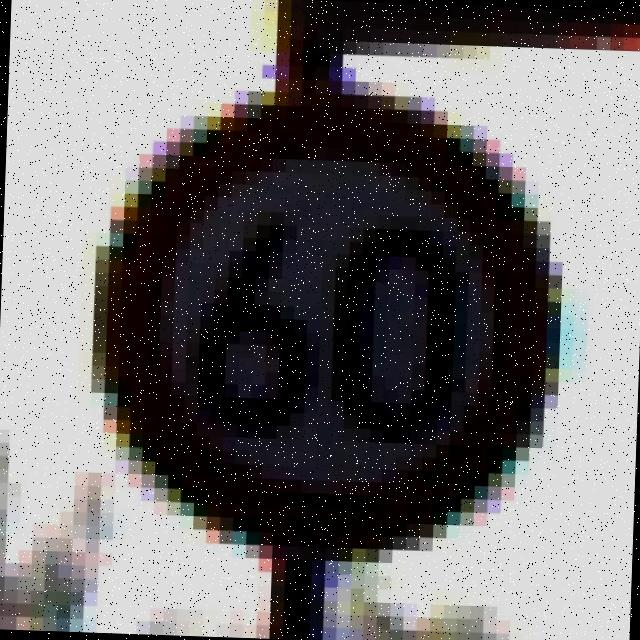Ograniczenie predkosci do 60: (107, 93, 543, 553)
